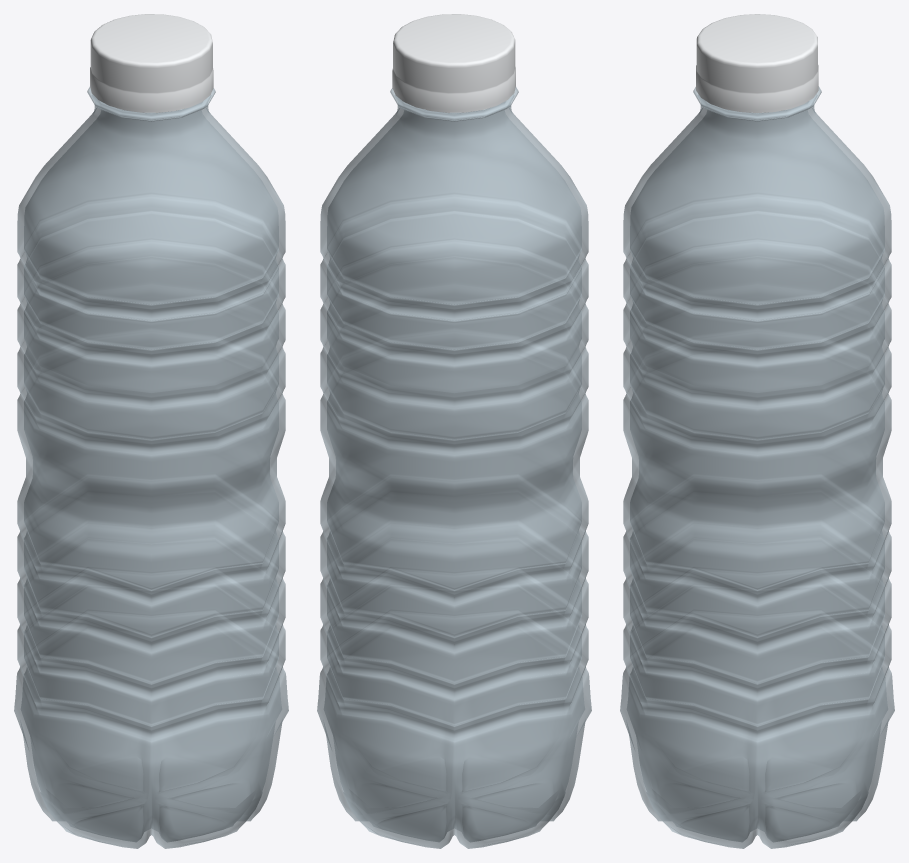
The model's file is item_water_bottle.glb.
3 views of the same model, side by side, from view 1: azimuth 30°, elevation 25°; view 2: azimuth 150°, elevation 25°; view 3: azimuth 270°, elevation 25° (orthographic).
Parts seen in each view (by area): view 1: Bottle; view 2: Bottle; view 3: Bottle.
Boxes of the visible parts, <box> form: Bottle: <box>14,14,288,848</box>; Bottle: <box>317,14,591,848</box>; Bottle: <box>620,14,894,848</box>.
Size of the model in its own units: 0.0824 by 0.2482 by 0.0806.
